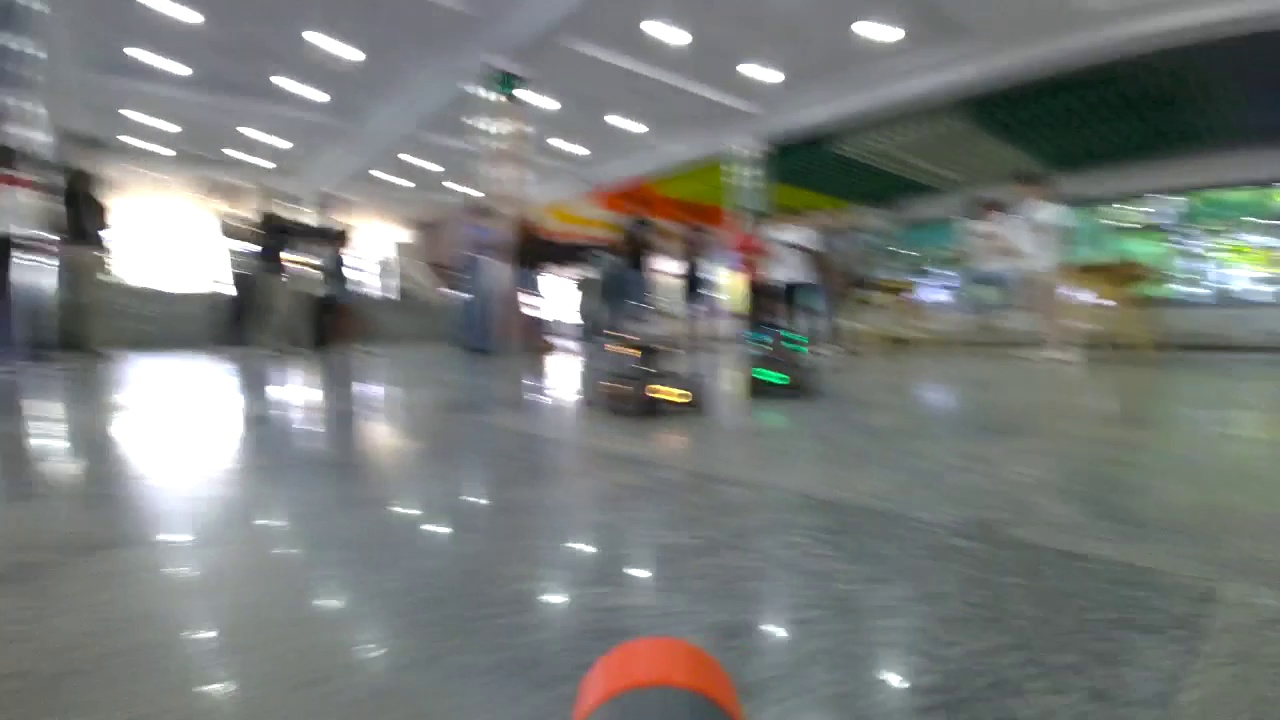robot: (592, 330, 709, 417), (744, 323, 816, 406)
